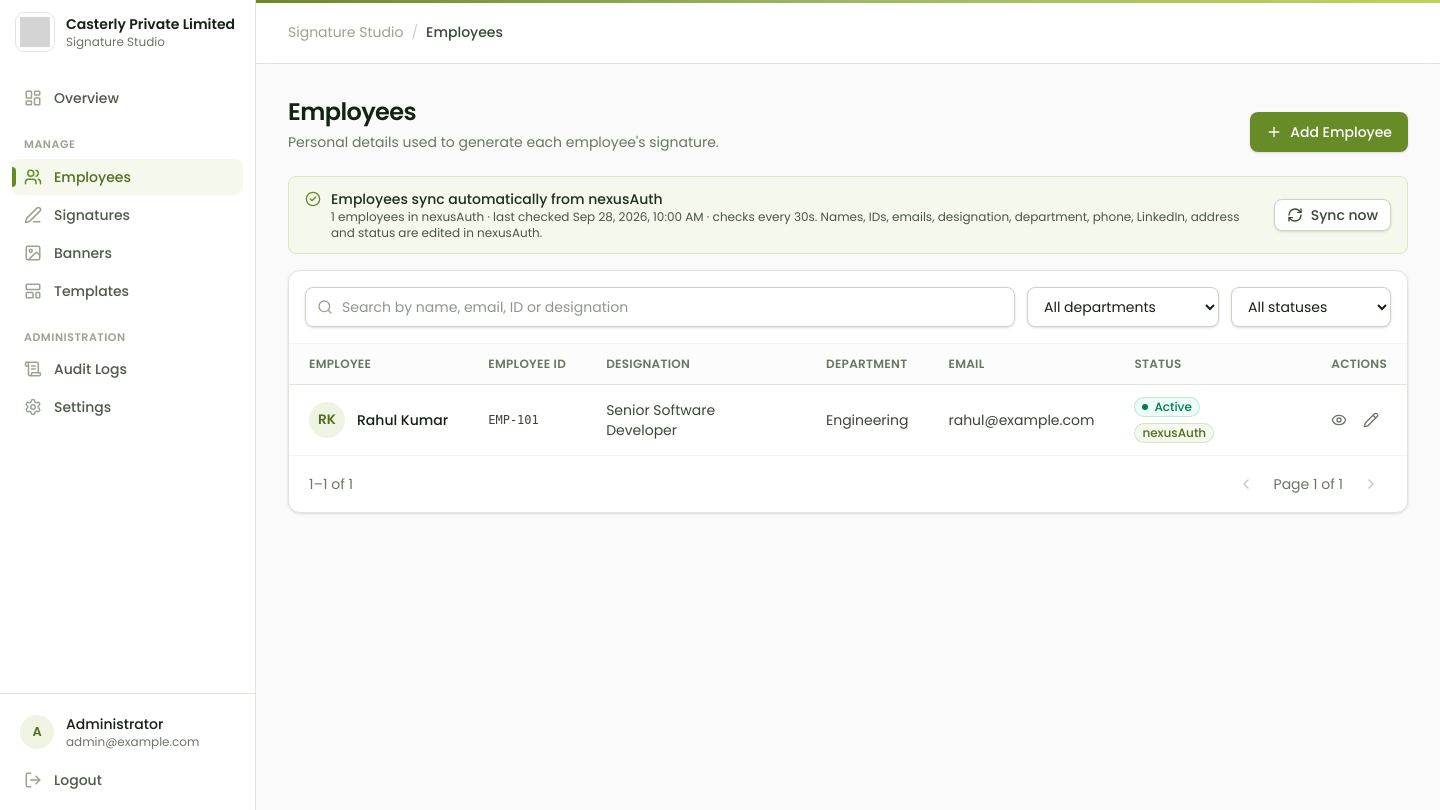
Test: nexusAuth sync › shows the sync status and runs a sync on demand
Expected: the text "Employees sync automatically from nexusAuth" is shown, [331, 189, 663, 209]
Click the button "Sync now" at (1332, 215), box [1274, 199, 1391, 231]
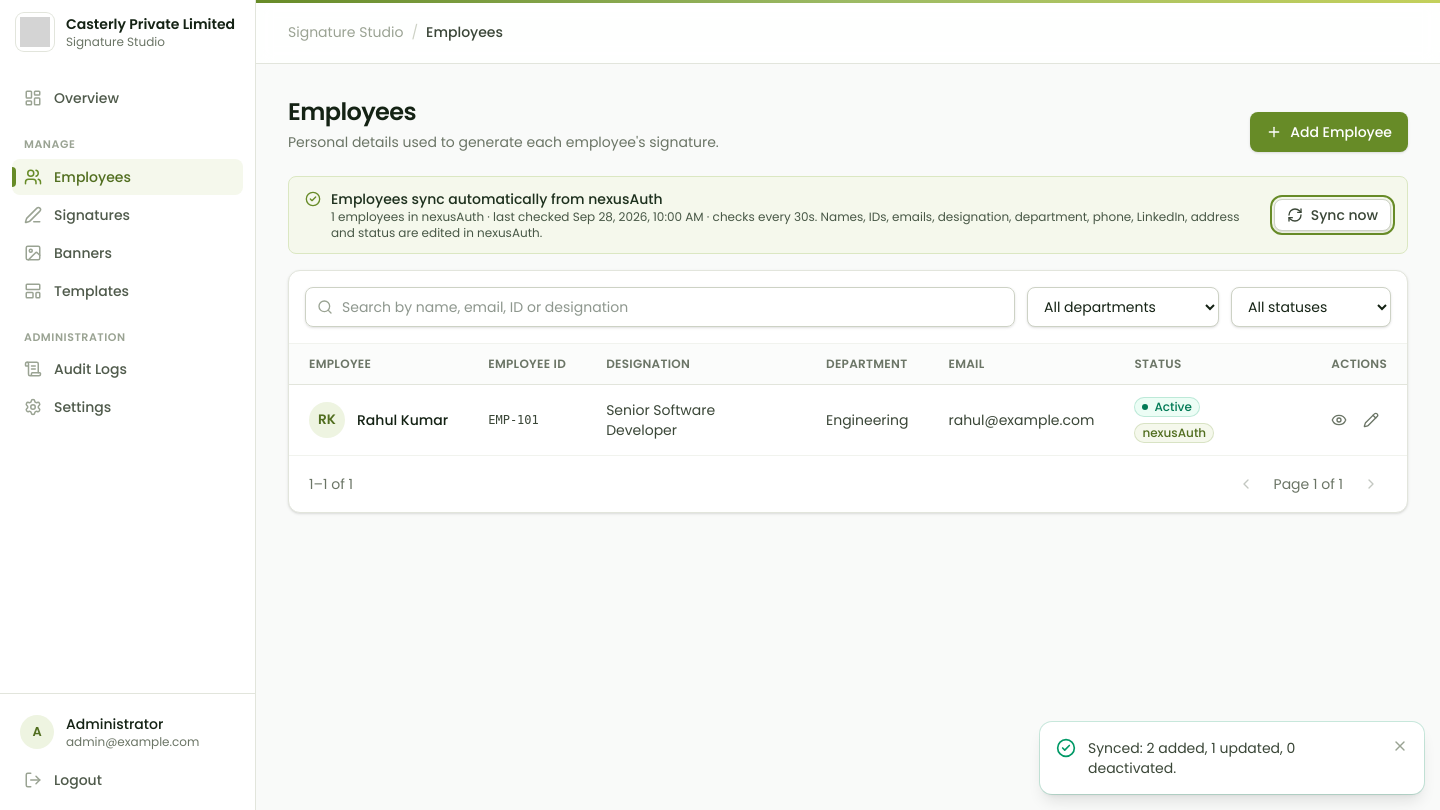
Expected: the text "Synced: 2 added, 1 updated, 0 deactivated." is shown, [1088, 738, 1295, 778]
